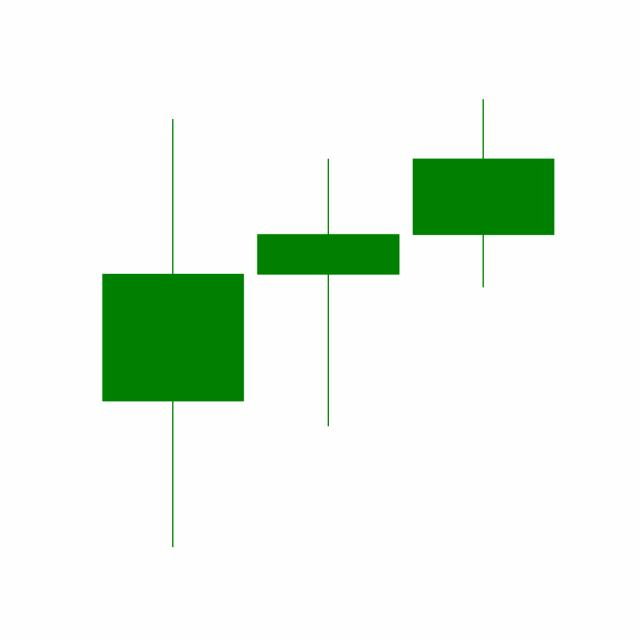Hanging Man: (249, 156, 406, 430)
